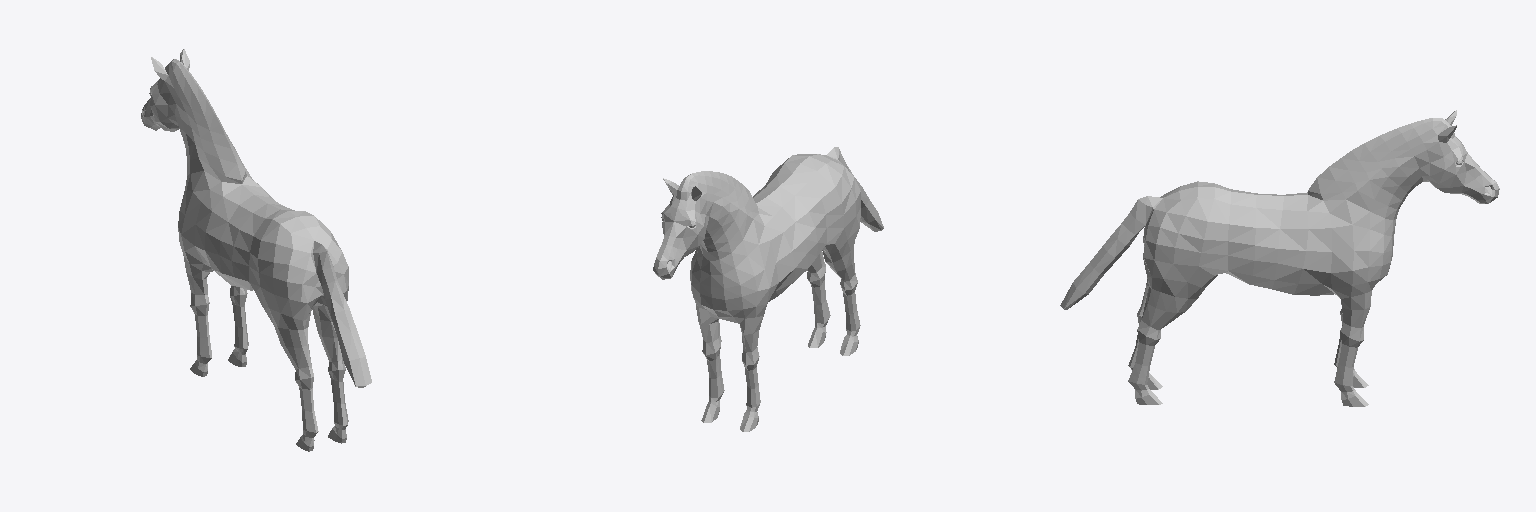
File: caballito.obj
3 renders of one model, left to right at view 1: azimuth 30°, elevation 25°; view 2: azimuth 150°, elevation 25°; view 3: azimuth 270°, elevation 25°, orthographic.
Parts seen in each view (by area): view 1: horse_001; view 2: horse_001; view 3: horse_001.
Boxes of the visible parts, x1,y1,x2,y2 form: horse_001: [141, 49, 371, 451]; horse_001: [653, 147, 883, 431]; horse_001: [1060, 110, 1499, 406].
Size of the model in its own units: 0.55 by 1.86 by 2.66.